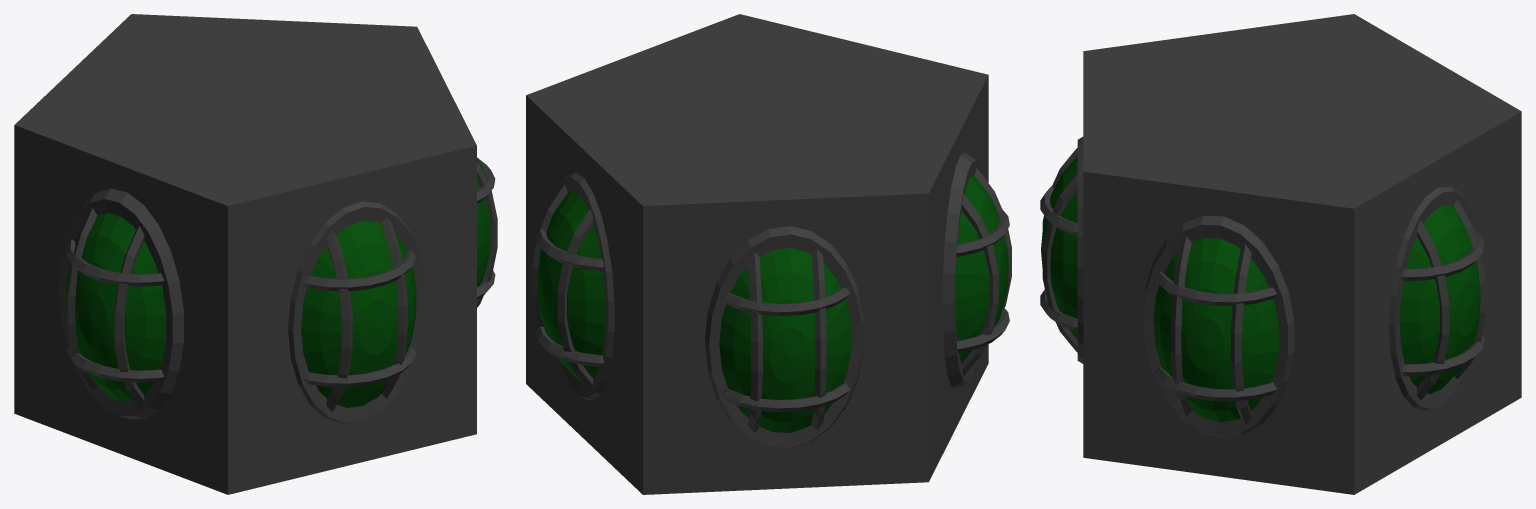
Rendered from towerblockpoison.fbx.
3 views of the same model, side by side, from view 1: azimuth 30°, elevation 25°; view 2: azimuth 150°, elevation 25°; view 3: azimuth 270°, elevation 25° (orthographic).
Parts seen in each view (by area): view 1: Cylinder; view 2: Cylinder; view 3: Cylinder.
Part boxes in pixels (left/top/right/bottom): Cylinder: left=14, top=14, right=497, bottom=494; Cylinder: left=526, top=14, right=1011, bottom=494; Cylinder: left=1040, top=14, right=1521, bottom=494.
Size of the model in its own units: 172 by 114 by 173.
